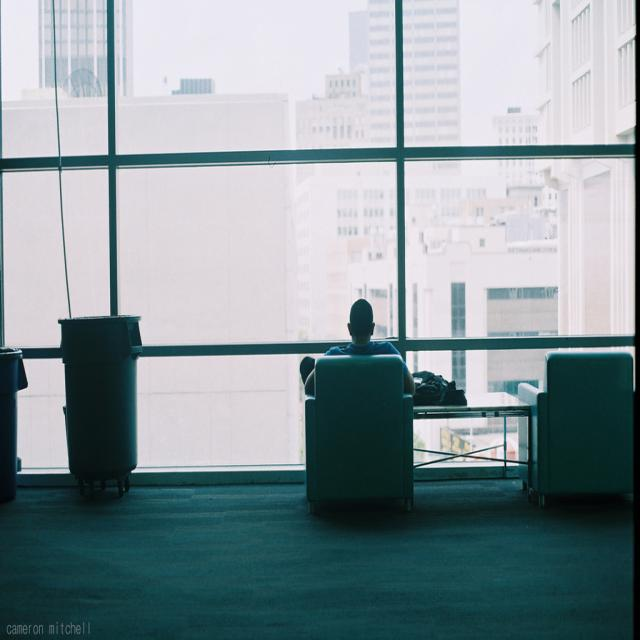desk: (398, 381, 546, 508)
person: (325, 297, 417, 399)
